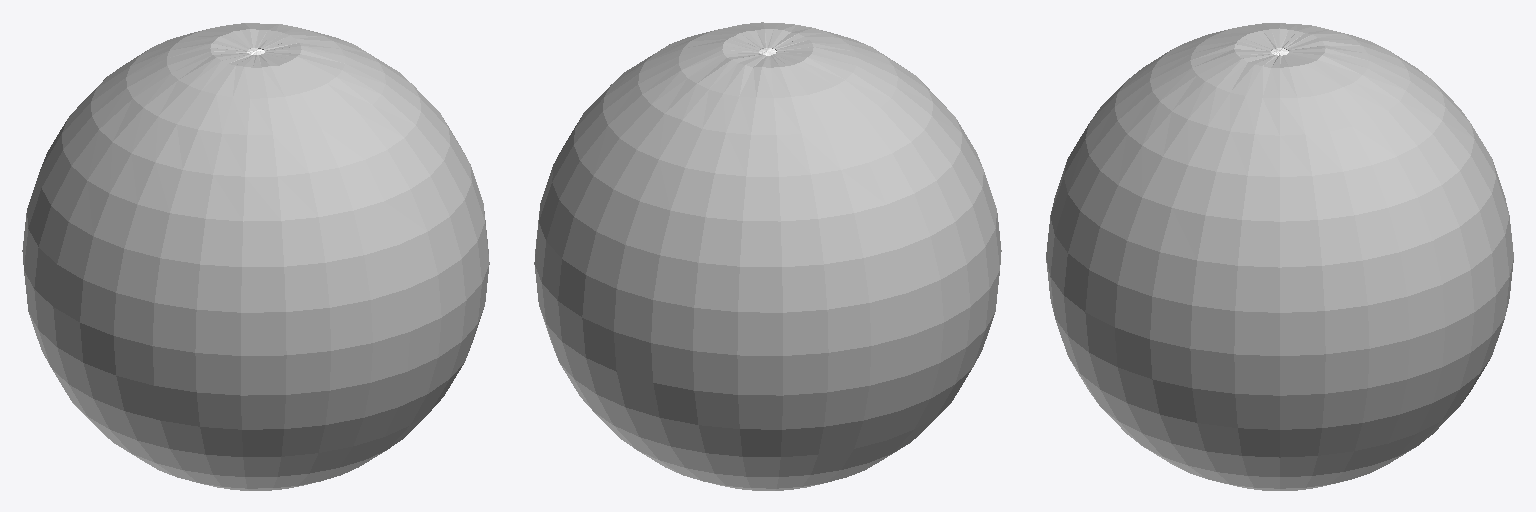
Rendered from orange.obj.
The picture shows the model from 3 angles: view 1: azimuth 30°, elevation 25°; view 2: azimuth 150°, elevation 25°; view 3: azimuth 270°, elevation 25°; orthographic projection.
Parts seen in each view (by area): view 1: Orange; view 2: Orange; view 3: Orange.
Part boxes in pixels (left/top/right/bottom): Orange: left=22, top=23, right=489, bottom=490; Orange: left=534, top=22, right=1001, bottom=490; Orange: left=1046, top=23, right=1513, bottom=490.
Bounding box in the file's own units: 2 × 1.96 × 2.